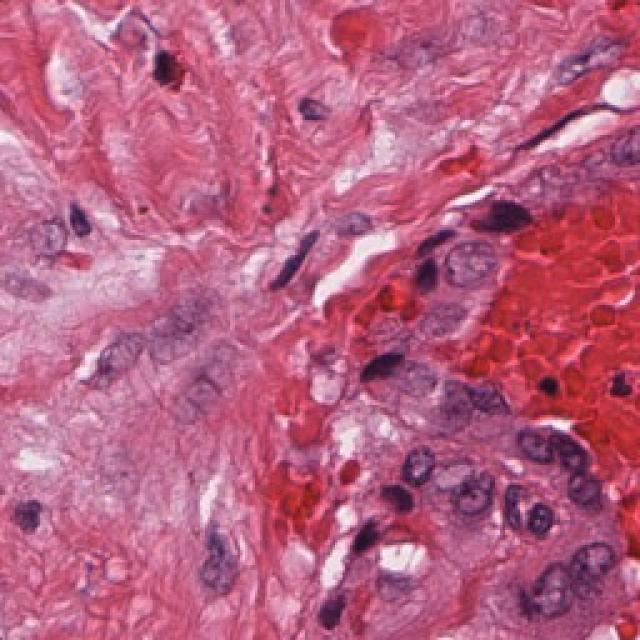abnormal: (510, 411, 610, 520), (420, 224, 517, 301), (393, 283, 482, 360), (512, 547, 586, 637), (436, 456, 516, 537), (381, 426, 455, 510), (561, 519, 630, 608)
